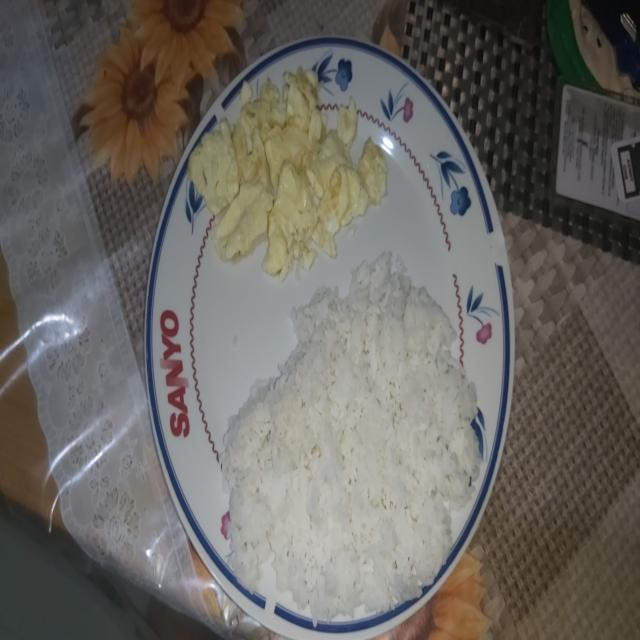Chicken -Chicken Inasal-: (241, 268, 475, 604)
